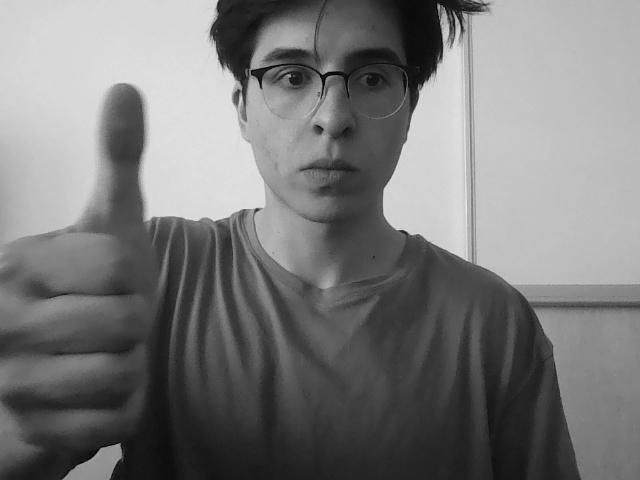good: (0, 70, 182, 444)
